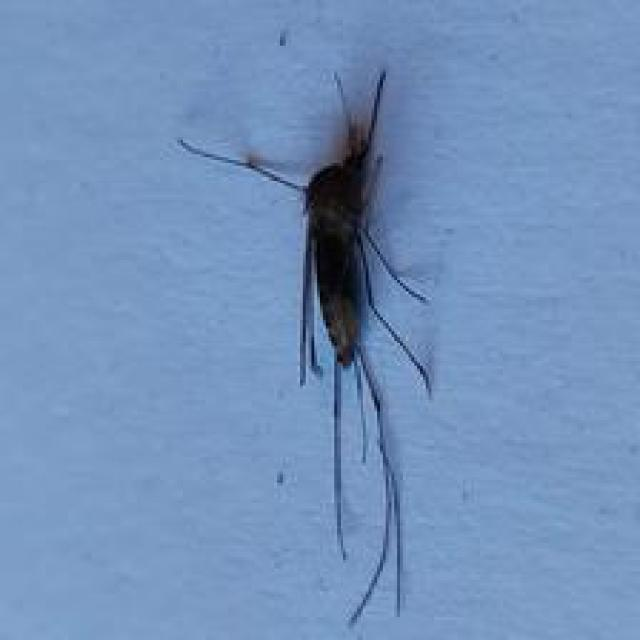Culex: (176, 64, 436, 627)
